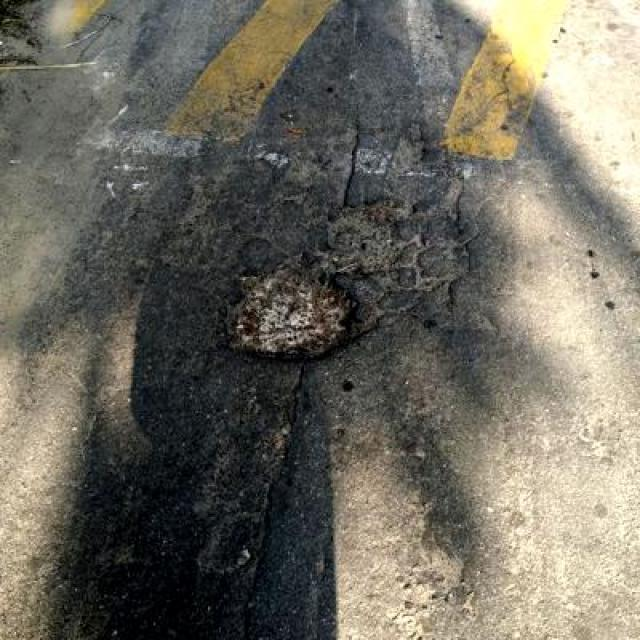pothole: (218, 261, 363, 365), (318, 197, 412, 275)
